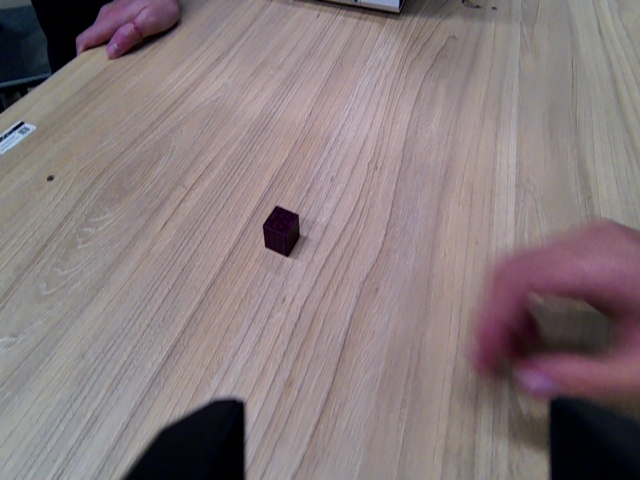brick: (258, 204, 304, 258)
